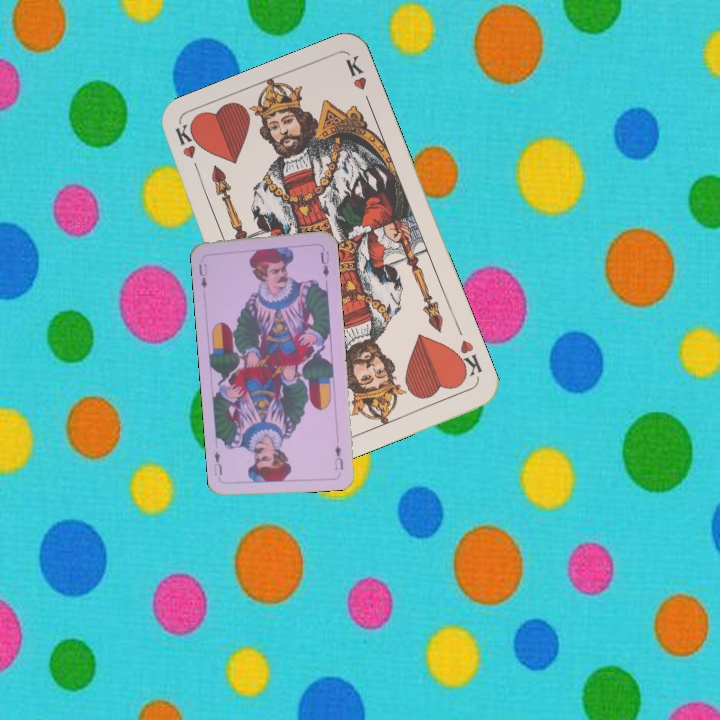EU: (330, 442, 346, 473), (195, 259, 210, 291)
HK: (171, 121, 204, 179), (449, 336, 485, 382)
